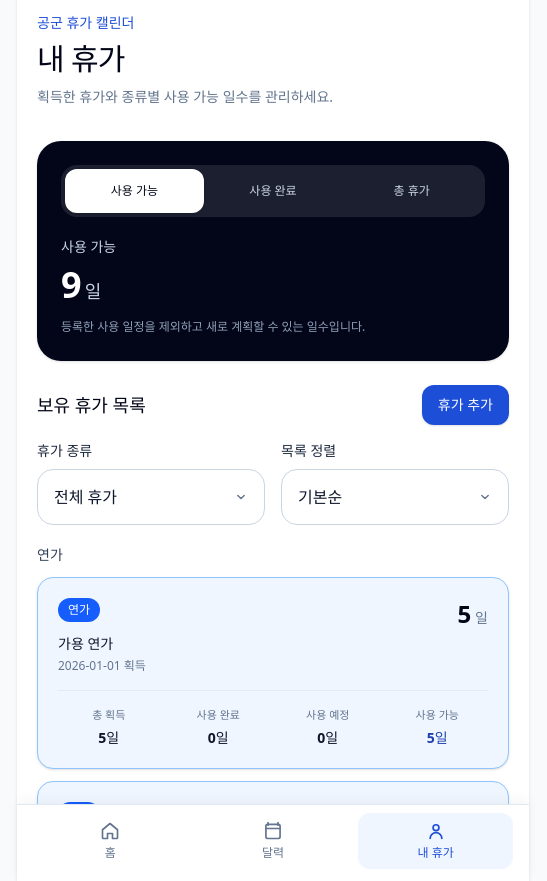
Test: 보유 휴가 목록 정리 › 휴가 종류를 선택해 해당 종류의 카드만 본다
Select "연가" in the dropdown labelled "휴가 종류": (151, 497) [37,469,265,525]
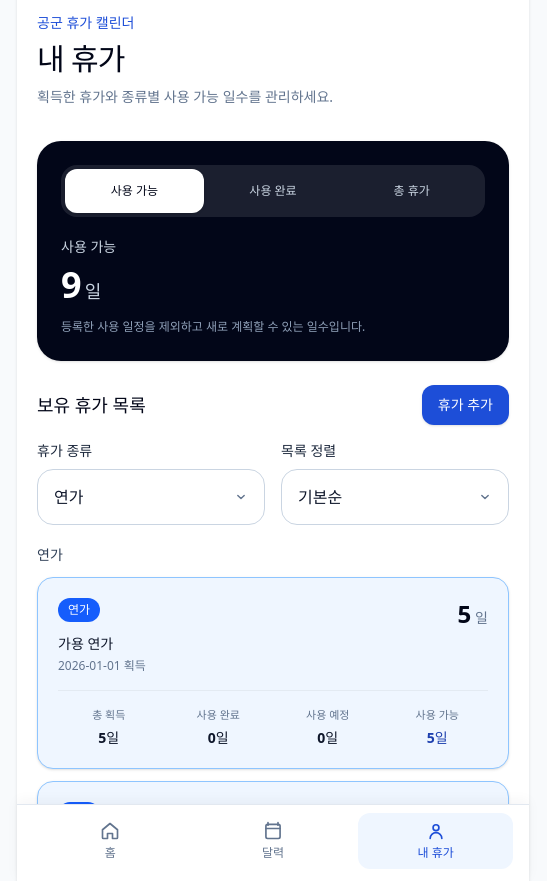
Select "포상휴가" in the dropdown labelled "휴가 종류": (151, 497) [37,469,265,525]
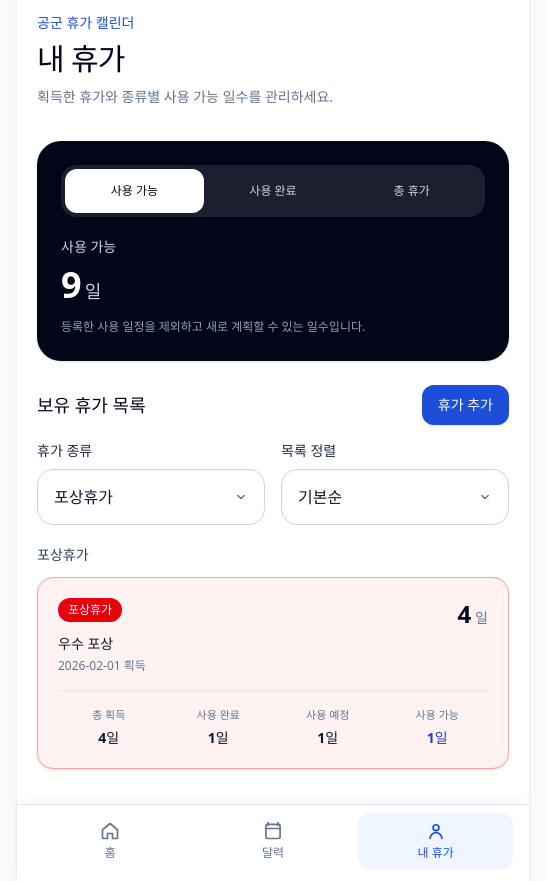
Select "공가" in the dropdown labelled "휴가 종류": (151, 497) [37,469,265,525]
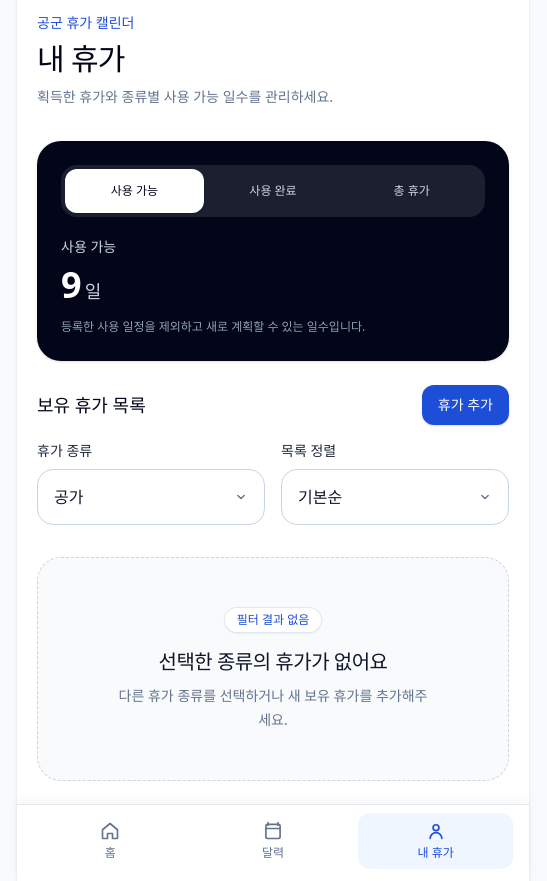
Check: the heading "선택한 종류의 휴가가 없어요" is shown, box [158,648,387,675]
